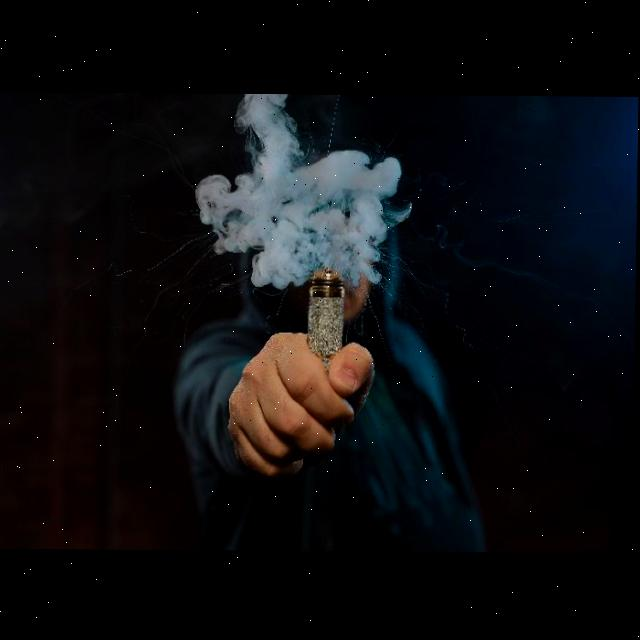vape: (307, 266, 347, 372)
